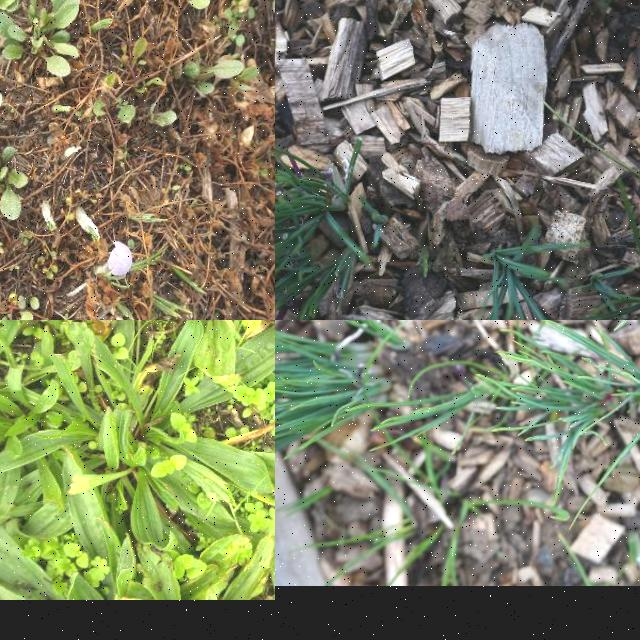flower: (108, 241, 134, 277)
